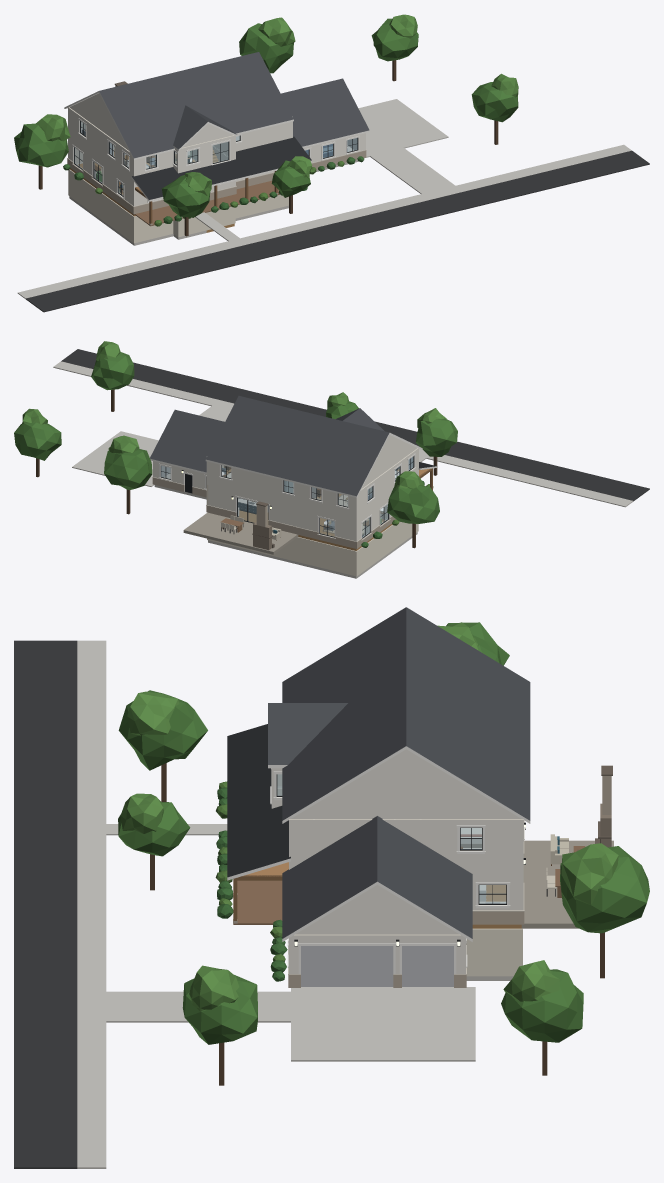
File: house.glb
3 views of the same model, one above another, from view 1: azimuth 30°, elevation 25°; view 2: azimuth 150°, elevation 25°; view 3: azimuth 270°, elevation 25° (orthographic). The views are drawn at different scales.
Visible parts, largest first — view 1: main/site/street, main/site/trees (×2), main/site/sidewalk, roof/roof/Main roof E, roof/roof/Main roof W, roof/roof/Garage roof, roof/roof/Main roof C, main/site/garage court, basement/wall/11 Unfinished, main/site/driveway, roof/roof/Porch roof E, main/wall/04 Garage (+19 smaller); view 2: main/site/trees (×2), main/site/street, roof/roof/Main roof E, roof/roof/Main roof W, roof/roof/Main roof C, main/site/sidewalk, roof/roof/Garage roof, main/wall/34 Great Room | Patio, basement/wall/10 Unfinished, main/floor/Patio, main/wall/33 Great Room, basement/wall/11 Unfinished (+12 smaller); view 3: main/site/street, main/site/trees (×2), roof/roof/Main roof E, roof/roof/Garage roof, main/site/sidewalk, main/site/garage court, roof/roof/Main roof C, main/wall/35 Garage, roof/roof/Main roof W, upper/wall/46 Bedroom 4, roof/roof/Porch roof E, main/site/driveway (+11 smaller).
Part boxes in pixels (box(x1,y1,x2,y2)): main/site/street: box(26, 150, 649, 312); main/site/trees (×2): box(14, 14, 518, 236); main/site/sidewalk: box(17, 144, 631, 299); roof/roof/Main roof E: box(197, 52, 293, 134); roof/roof/Main roof W: box(64, 80, 174, 159); roof/roof/Garage roof: box(281, 78, 369, 148); roof/roof/Main roof C: box(141, 67, 229, 142); main/site/garage court: box(358, 99, 448, 158); basement/wall/11 Unfinished: box(68, 169, 135, 243); main/site/driveway: box(370, 148, 455, 193); roof/roof/Porch roof E: box(235, 136, 311, 177); main/wall/04 Garage: box(303, 133, 366, 169); main/site/trees (×2): box(14, 341, 457, 548); main/site/street: box(61, 349, 649, 501); roof/roof/Main roof E: box(205, 396, 296, 475); roof/roof/Main roof W: box(317, 423, 422, 497); roof/roof/Main roof C: box(264, 410, 349, 488); main/site/sidewalk: box(53, 361, 633, 507); roof/roof/Garage roof: box(150, 409, 224, 473); main/wall/34 Great Room | Patio: box(206, 485, 296, 533); basement/wall/10 Unfinished: box(208, 537, 357, 576); main/floor/Patio: box(183, 512, 298, 554); main/wall/33 Great Room: box(296, 506, 357, 548); basement/wall/11 Unfinished: box(355, 521, 418, 575); main/site/street: box(14, 640, 77, 1168); main/site/trees (×2): box(118, 622, 649, 1085); roof/roof/Main roof E: box(282, 692, 530, 823); roof/roof/Garage roof: box(282, 816, 472, 941); main/site/sidewalk: box(77, 640, 106, 1168); main/site/garage court: box(291, 987, 475, 1061); roof/roof/Main roof C: box(292, 643, 530, 766); main/wall/35 Garage: box(288, 934, 466, 987); roof/roof/Main roof W: box(282, 607, 530, 717); upper/wall/46 Bedroom 4: box(420, 819, 523, 871); roof/roof/Porch roof E: box(227, 806, 290, 880); main/site/driveway: box(106, 991, 290, 1022).
Size of the model in its own units: 65.84 by 13.7 by 33.6.
